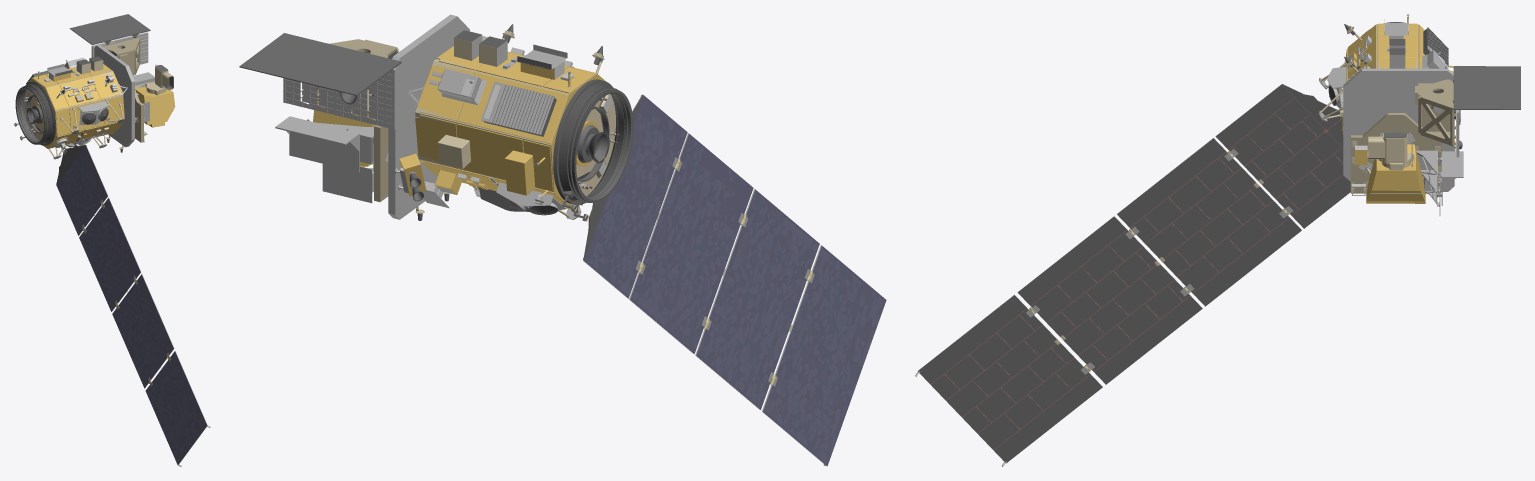
File: landsat8.glb
3 renders of one model, left to right at view 1: azimuth 30°, elevation 25°; view 2: azimuth 150°, elevation 25°; view 3: azimuth 270°, elevation 25°, orthographic. The views are drawn at different scales.
Visible parts, largest first — view 1: Layer_0; view 2: Layer_0; view 3: Layer_0.
Boxes of the visible parts, left/top/right/bottom form: Layer_0: left=14, top=14, right=210, bottom=466; Layer_0: left=239, top=14, right=886, bottom=466; Layer_0: left=915, top=14, right=1520, bottom=466.
Size of the model in its own units: 4.97 by 10.04 by 12.26.
